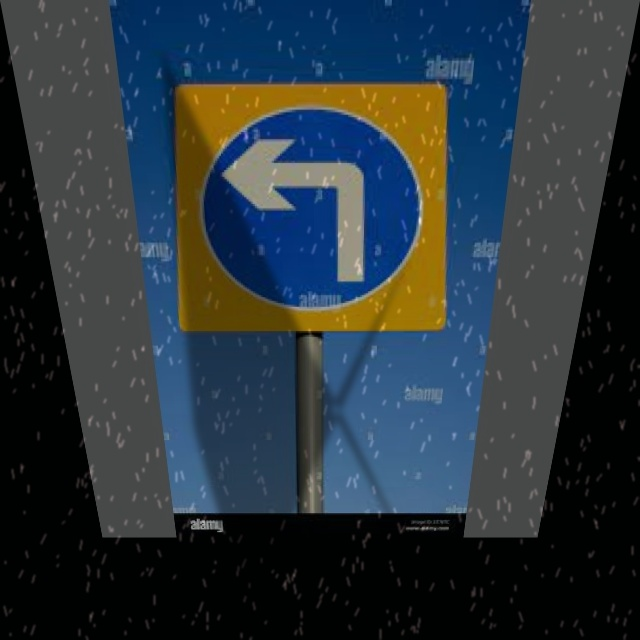Compulsory_Turn_Left_Ahead: (189, 101, 443, 319)
